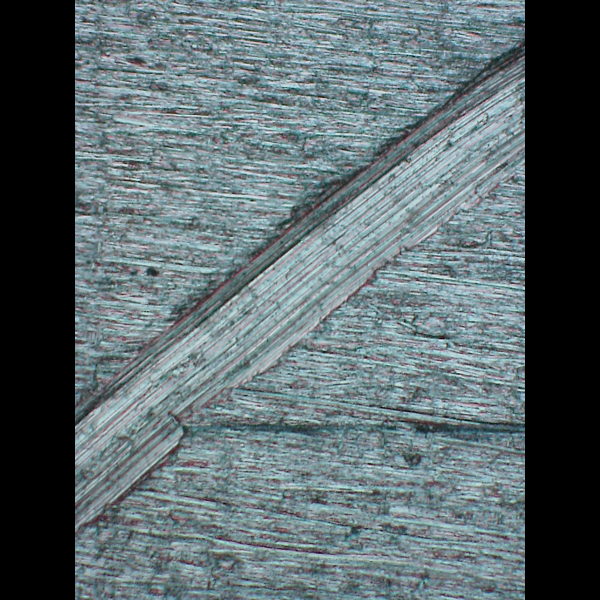d: (75, 36, 524, 545)
